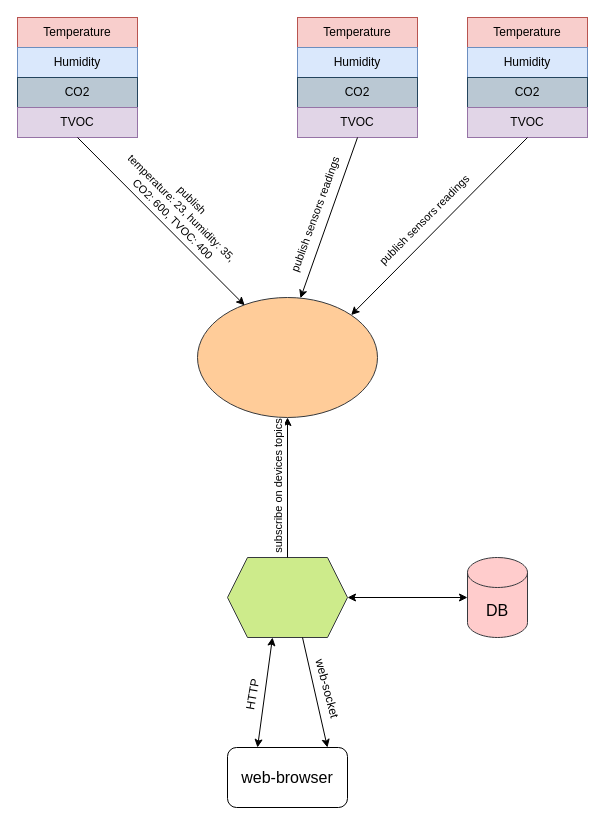
The diagram is 605 pixels wide and 825 high, and some of its shapes have lost their labels. Each missing label, with the centre of its shape:
"IoT hub" goes at point (287, 597).
"MQTT Broker" goes at point (287, 357).
